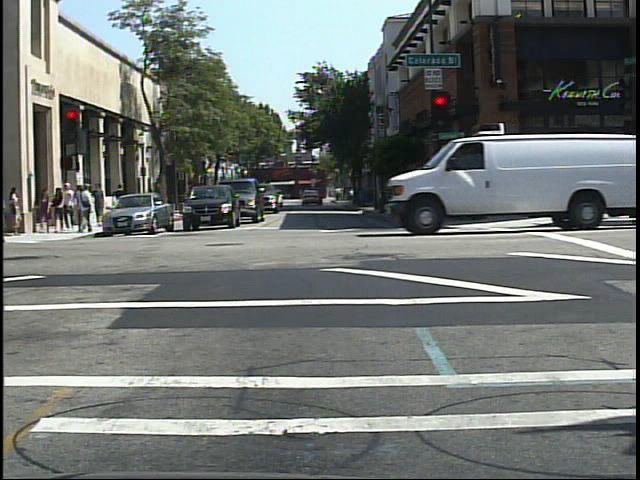person: (75, 180, 97, 236)
